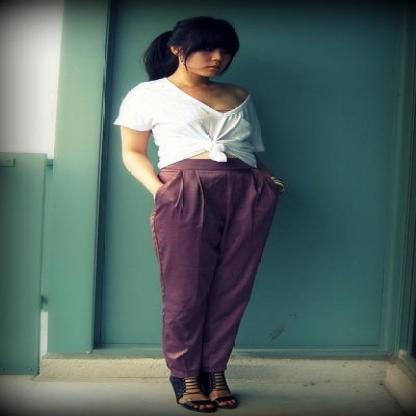pants: (146, 152, 282, 374)
shirt: (114, 78, 276, 168)
shoe: (170, 368, 244, 413)
